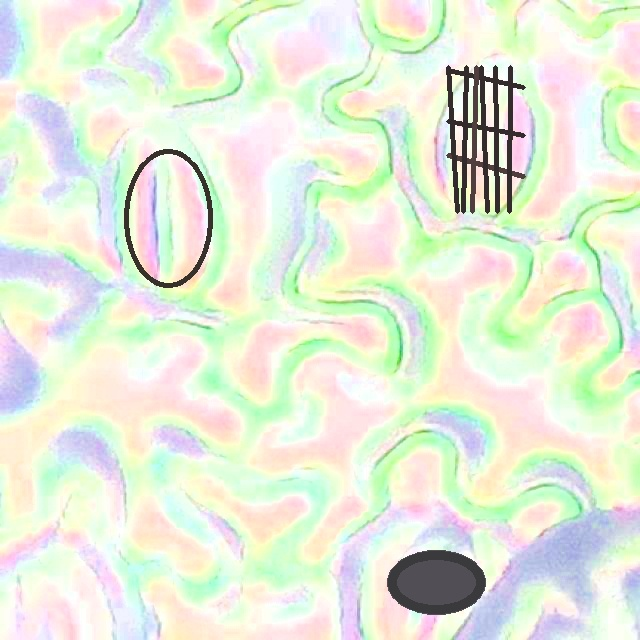open: (123, 149, 213, 288), (446, 65, 525, 213), (387, 550, 486, 614)
